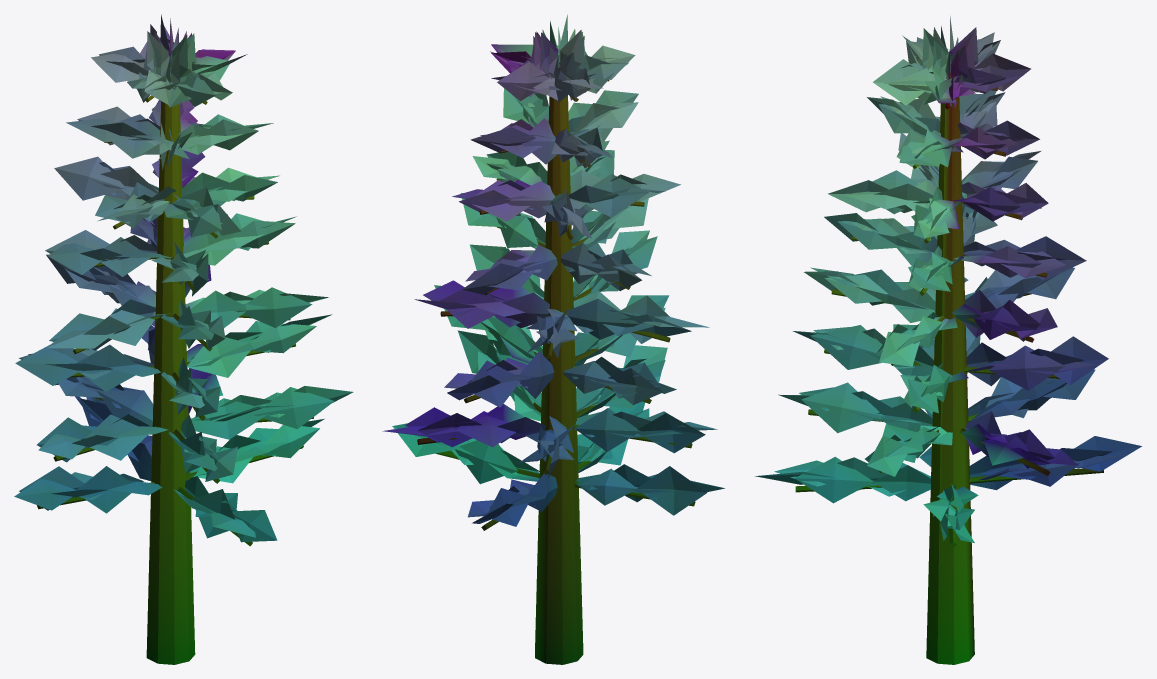
File: mature_conifer_02.glb
3 views of the same model, side by side, from view 1: azimuth 30°, elevation 25°; view 2: azimuth 150°, elevation 25°; view 3: azimuth 270°, elevation 25° (orthographic).
Parts seen in each view (by area): view 1: mature_conifer_02; view 2: mature_conifer_02; view 3: mature_conifer_02.
Boxes of the visible parts, x1=… form: mature_conifer_02: x1=14, y1=14, x2=353, y2=664; mature_conifer_02: x1=382, y1=14, x2=724, y2=664; mature_conifer_02: x1=755, y1=16, x2=1141, y2=664.
Bounding box in the file's own units: 7.21 × 13.47 × 7.52.
